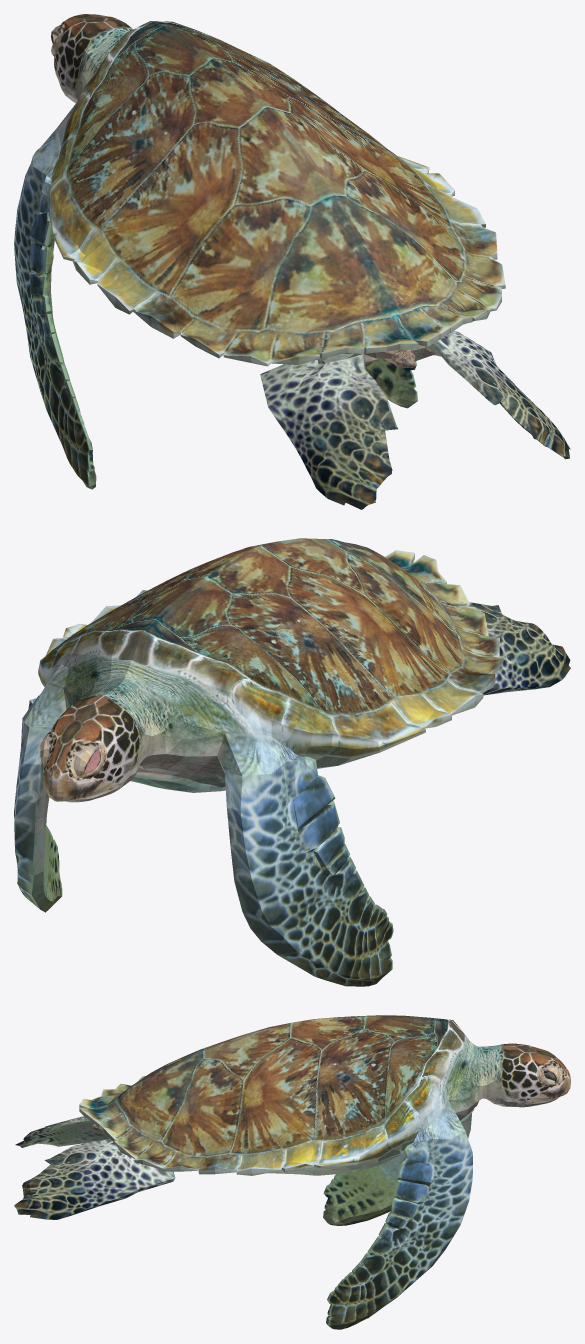
Rendered from frame_18.obj.
The picture shows the model from 3 angles, top to bottom: view 1: azimuth 30°, elevation 25°; view 2: azimuth 150°, elevation 25°; view 3: azimuth 270°, elevation 25°; orthographic projection. The views are drawn at different scales.
Parts seen in each view (by area): view 1: Turtle GEO Turtle; view 2: Turtle GEO Turtle; view 3: Turtle GEO Turtle.
Part boxes in pixels (x1=…): Turtle GEO Turtle: x1=14, y1=14, x2=570, y2=509; Turtle GEO Turtle: x1=14, y1=538, x2=570, y2=986; Turtle GEO Turtle: x1=14, y1=1015, x2=570, y2=1329.
Bounding box in the file's own units: 51.12 × 50.57 × 98.71.
Materials: 1 (1 with a texture image).
